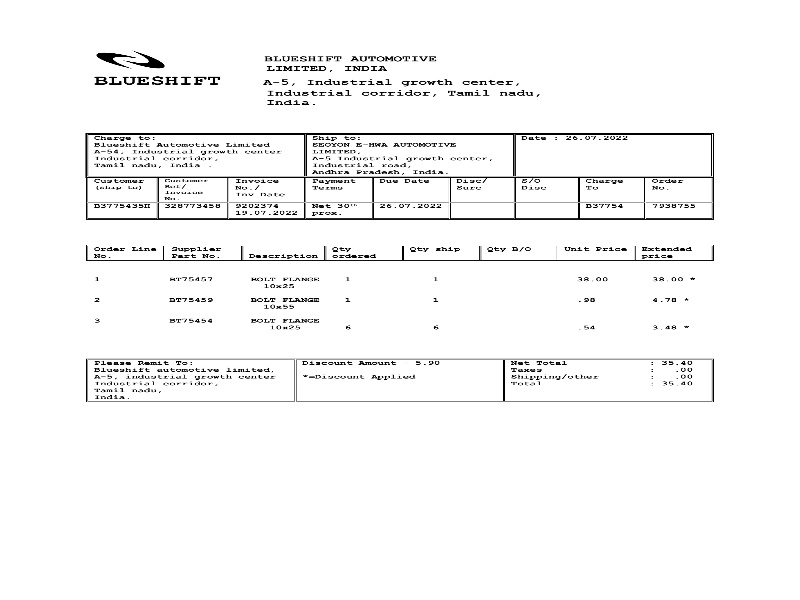Borderless: (87, 242, 715, 346)
